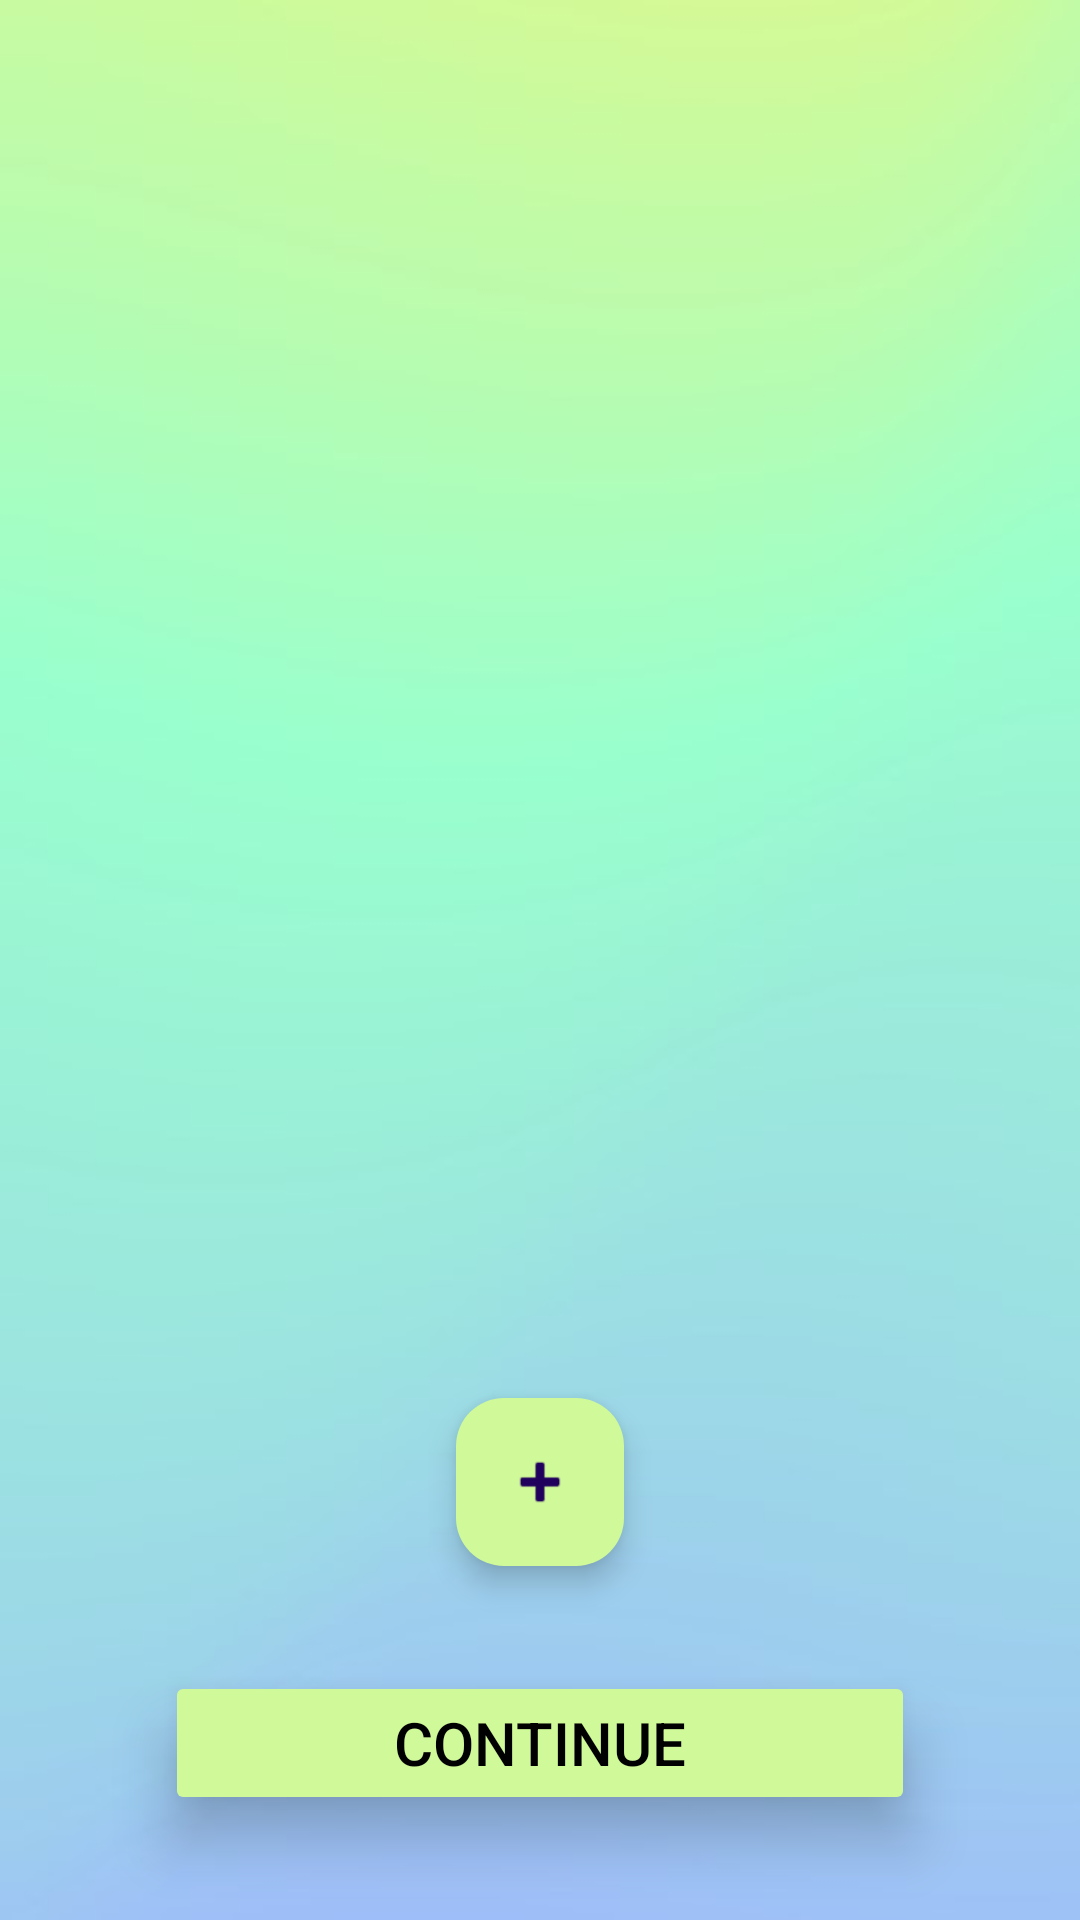

Locate icon controls on the screen. Image size 1080 x 1920, boxes as rect(x1, y1, x2, y2).
add: rect(456, 1398, 624, 1566)
